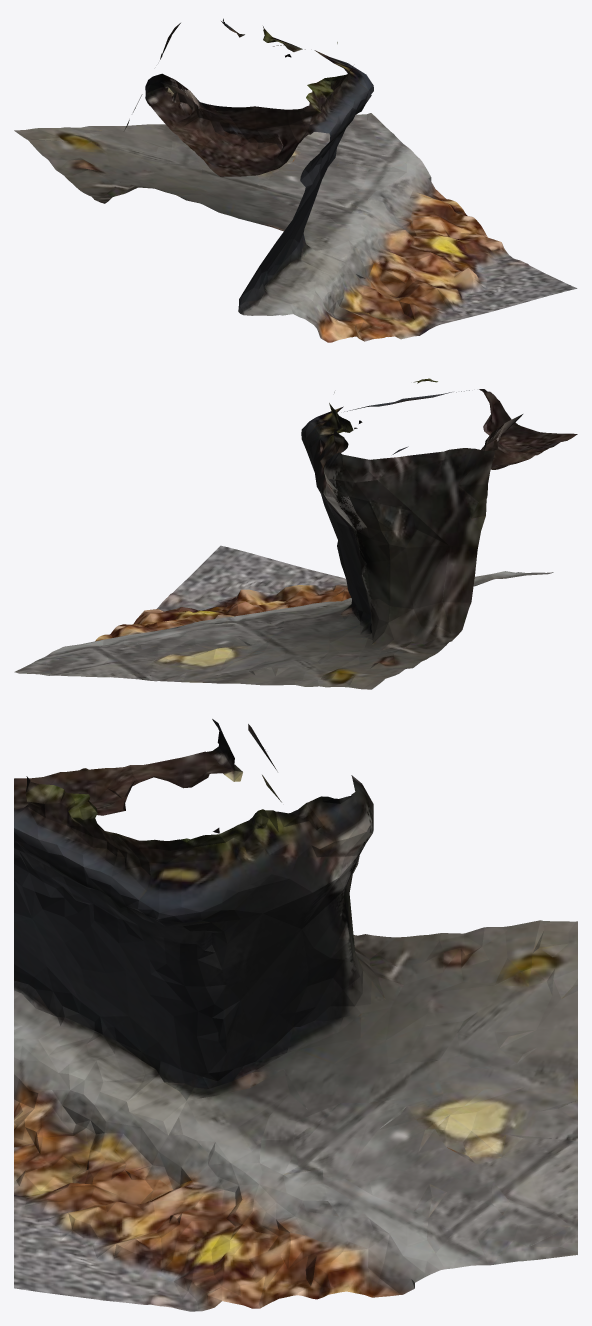
The picture shows the model from 3 angles, top to bottom: view 1: azimuth 30°, elevation 25°; view 2: azimuth 150°, elevation 25°; view 3: azimuth 270°, elevation 25°; orthographic projection. The views are drawn at different scales.
Bounding box in the file's own units: 0.8374 × 0.5812 × 0.8373.
4 materials, 4 textured.
